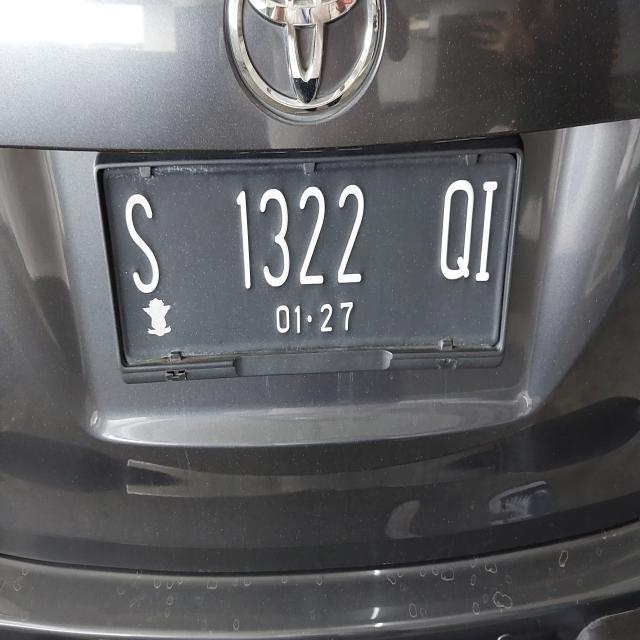1: (222, 176, 259, 312)
2: (329, 168, 376, 300), (292, 171, 334, 298)
3: (250, 168, 296, 306)
I: (473, 161, 506, 305)
Q: (438, 162, 479, 302)
S: (106, 176, 166, 300)
